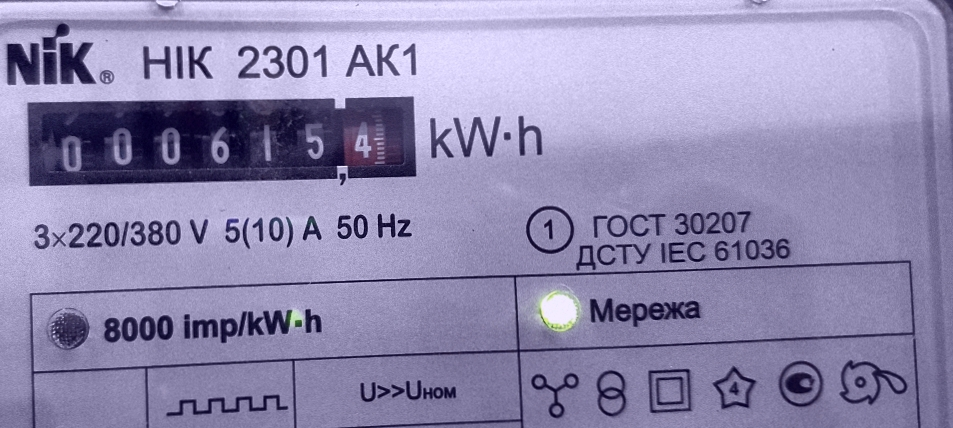0: (157, 124, 182, 167), (58, 132, 84, 173), (110, 125, 133, 165)
1: (260, 122, 273, 163)
4: (352, 118, 371, 159)
5: (302, 119, 325, 161)
6: (207, 124, 231, 164)
screen: (13, 84, 428, 198)
